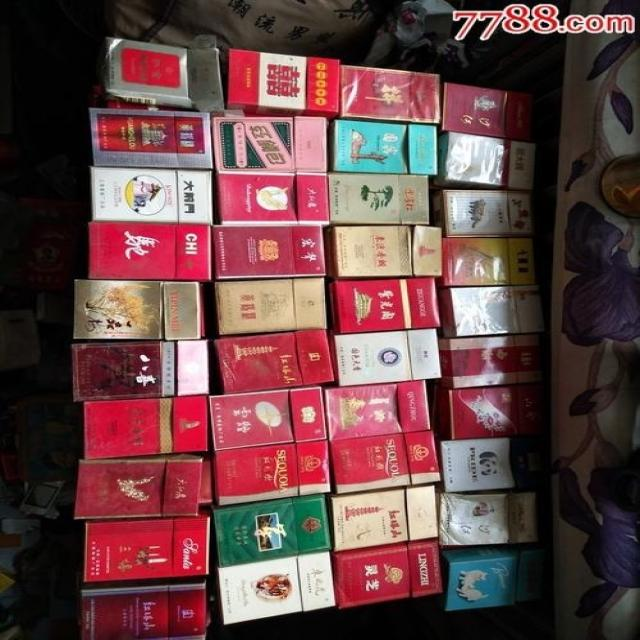box: (83, 511, 210, 582), (106, 36, 224, 112), (212, 493, 332, 567), (218, 552, 335, 625), (72, 340, 209, 401), (225, 49, 340, 121), (74, 454, 202, 518), (73, 280, 205, 342), (212, 439, 332, 506), (84, 395, 207, 459), (214, 330, 335, 394), (209, 385, 328, 450), (90, 107, 214, 169), (333, 538, 442, 608), (330, 486, 439, 553), (88, 222, 211, 281), (329, 431, 442, 495), (82, 582, 206, 640), (92, 167, 212, 225), (440, 548, 544, 610), (215, 278, 326, 336), (212, 117, 328, 172), (334, 329, 442, 388), (324, 380, 430, 440), (211, 225, 326, 280), (337, 64, 442, 124), (433, 131, 536, 192), (329, 225, 443, 280), (329, 278, 440, 334), (435, 487, 538, 547), (330, 120, 438, 176), (438, 334, 544, 390), (439, 384, 545, 440), (216, 173, 328, 225), (439, 438, 543, 493), (438, 285, 545, 338), (442, 83, 531, 140), (436, 237, 535, 288), (329, 175, 429, 225), (433, 190, 535, 237)
